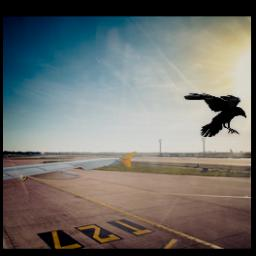Crow: (184, 92, 247, 137)
